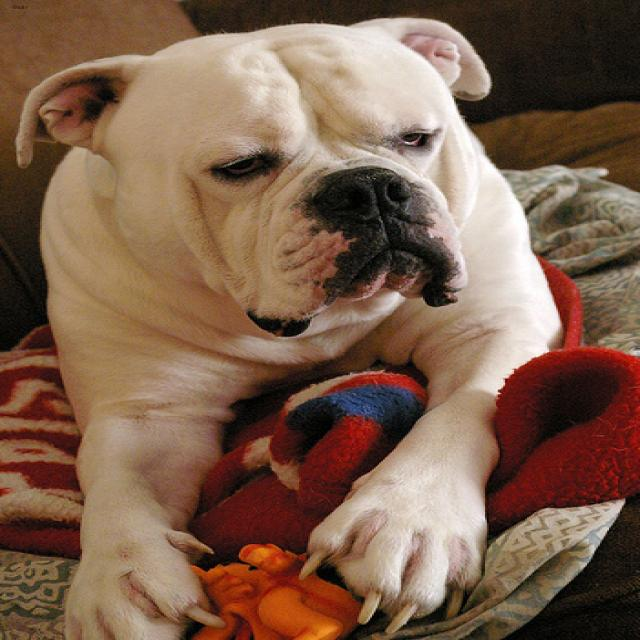dog-american_bulldog: (2, 5, 585, 637)
